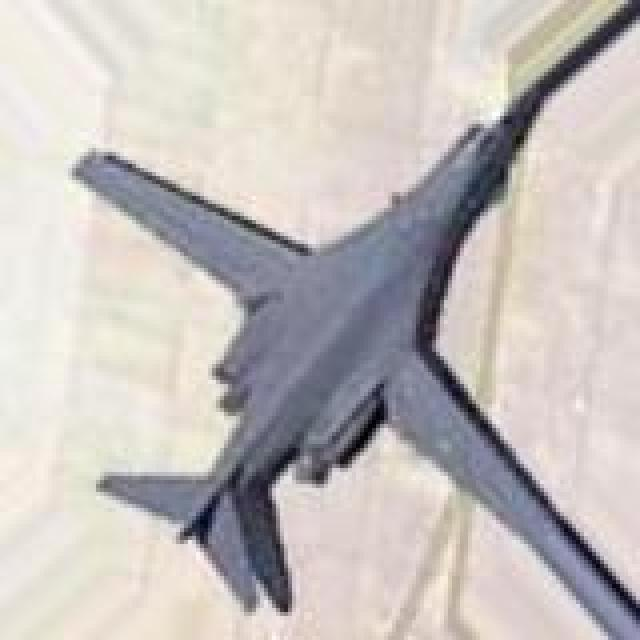B-1_TopDown: (64, 0, 636, 636)
